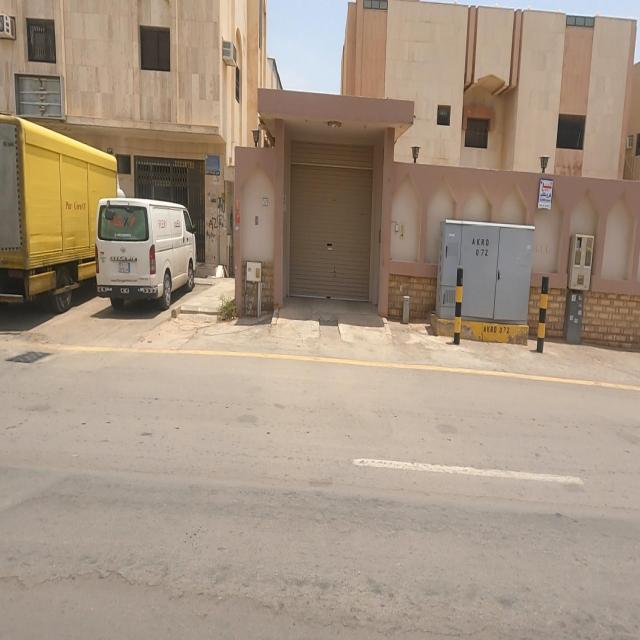Graffiti: (207, 216, 218, 243)
